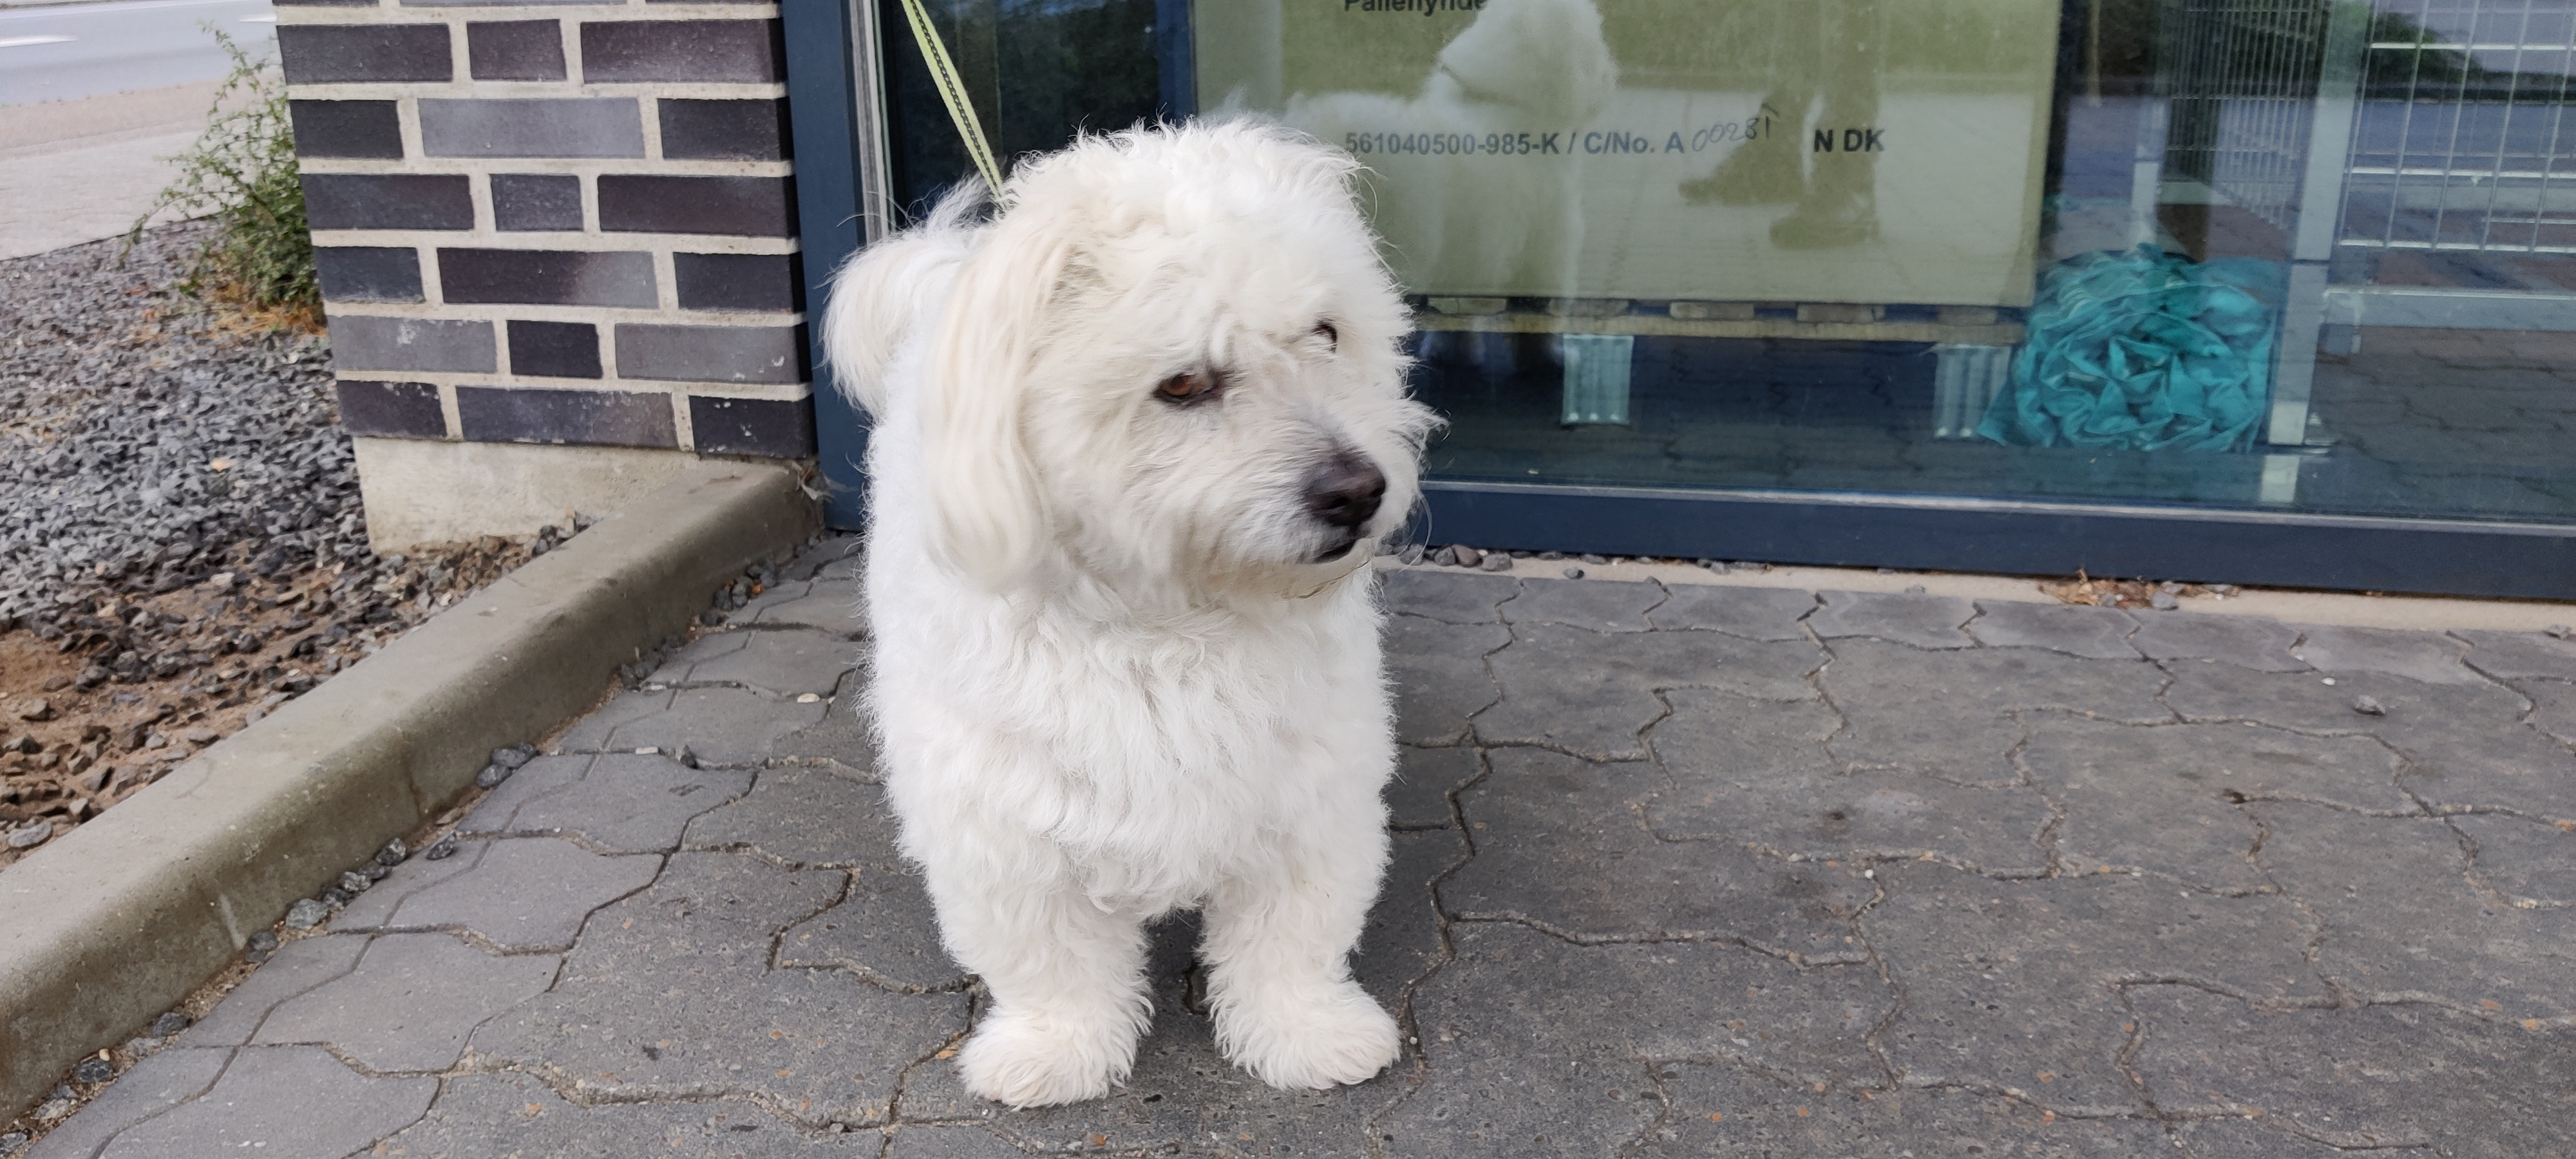Dog: (812, 105, 1452, 1111)
